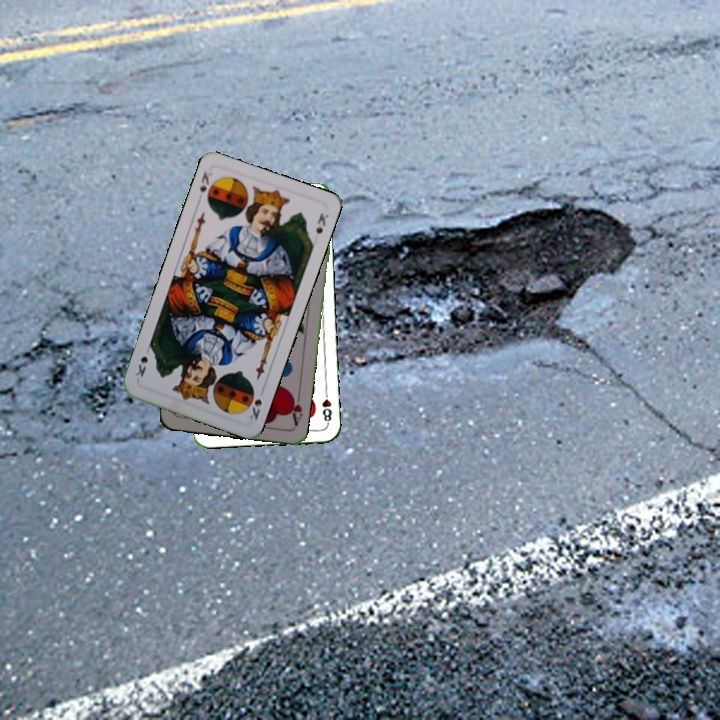H8: (318, 386, 335, 427)
HA: (285, 389, 305, 428)
SK: (245, 384, 267, 423), (195, 167, 215, 205)
